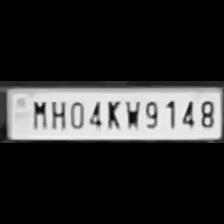0: (67, 98, 85, 130)
1: (162, 97, 176, 129)
4: (86, 98, 104, 130), (178, 97, 196, 129)
8: (196, 97, 216, 128)
9: (141, 97, 159, 130)
H: (48, 97, 66, 129)
K: (102, 97, 124, 130)
M: (28, 98, 48, 130)
W: (120, 96, 142, 132)
